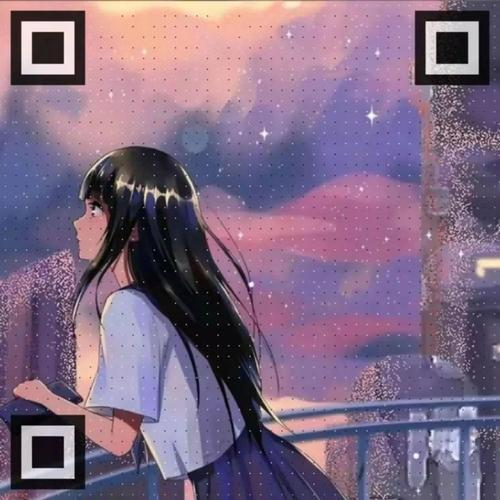QRCode: (1, 2, 500, 478)
